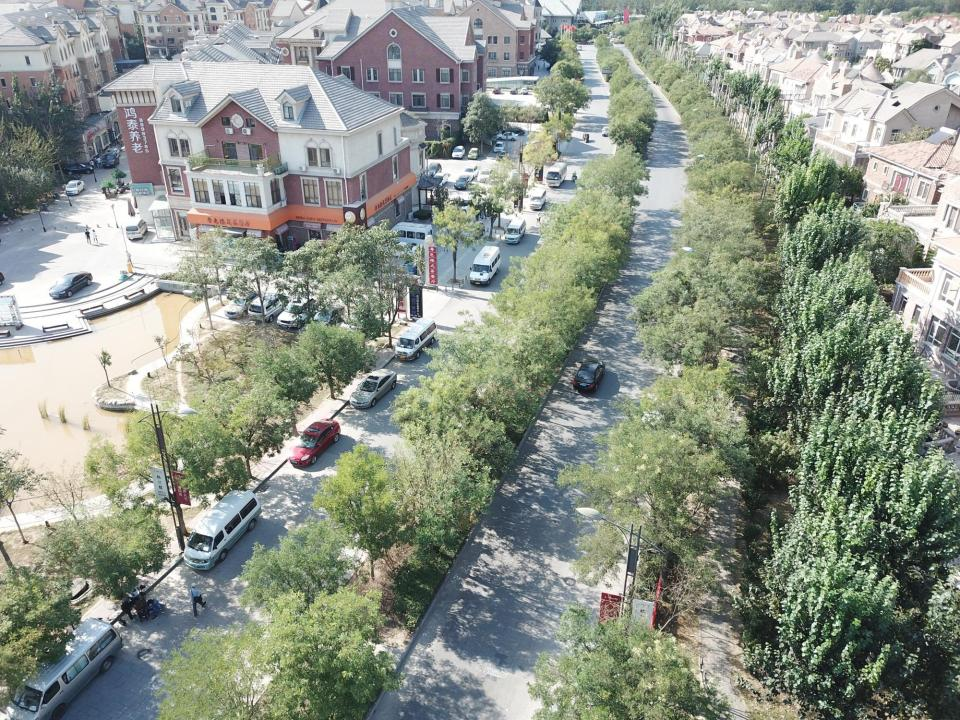bus: (544, 162, 567, 187)
car: (286, 418, 341, 467), (349, 368, 397, 408), (276, 294, 316, 330), (305, 304, 345, 334), (48, 271, 92, 298), (572, 358, 606, 391), (224, 290, 262, 319), (64, 162, 94, 175), (64, 179, 85, 194), (424, 162, 442, 178), (461, 164, 479, 180), (429, 172, 448, 187), (453, 175, 472, 190), (102, 153, 120, 168), (501, 125, 525, 136), (495, 131, 518, 142), (477, 168, 494, 181), (104, 147, 121, 159), (451, 145, 465, 159), (467, 147, 481, 159), (496, 150, 509, 162), (601, 125, 611, 138), (494, 140, 504, 152), (492, 86, 501, 94), (509, 87, 518, 94), (520, 87, 528, 94)
van: (5, 617, 124, 720), (184, 487, 262, 570), (395, 317, 437, 361), (469, 244, 501, 286), (385, 222, 433, 250), (247, 293, 287, 323), (505, 218, 526, 243), (125, 218, 148, 240), (529, 187, 546, 210)
